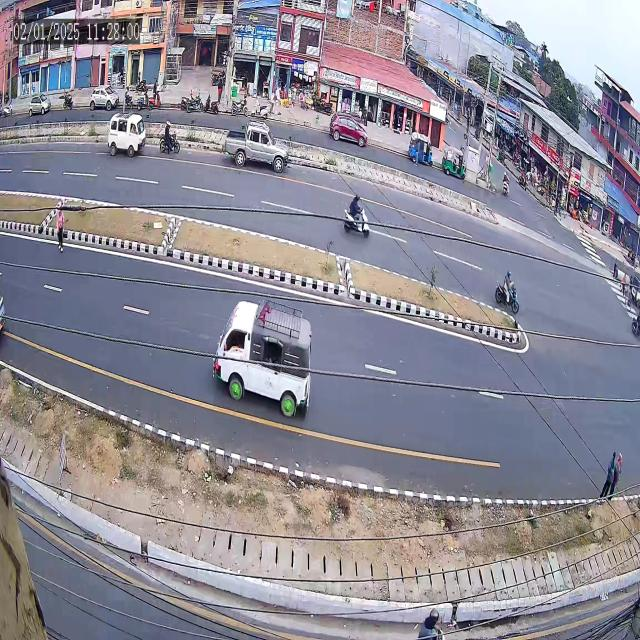motorcycle: (338, 187, 380, 256), (490, 251, 525, 329)
van: (197, 275, 325, 435), (104, 106, 146, 166)
